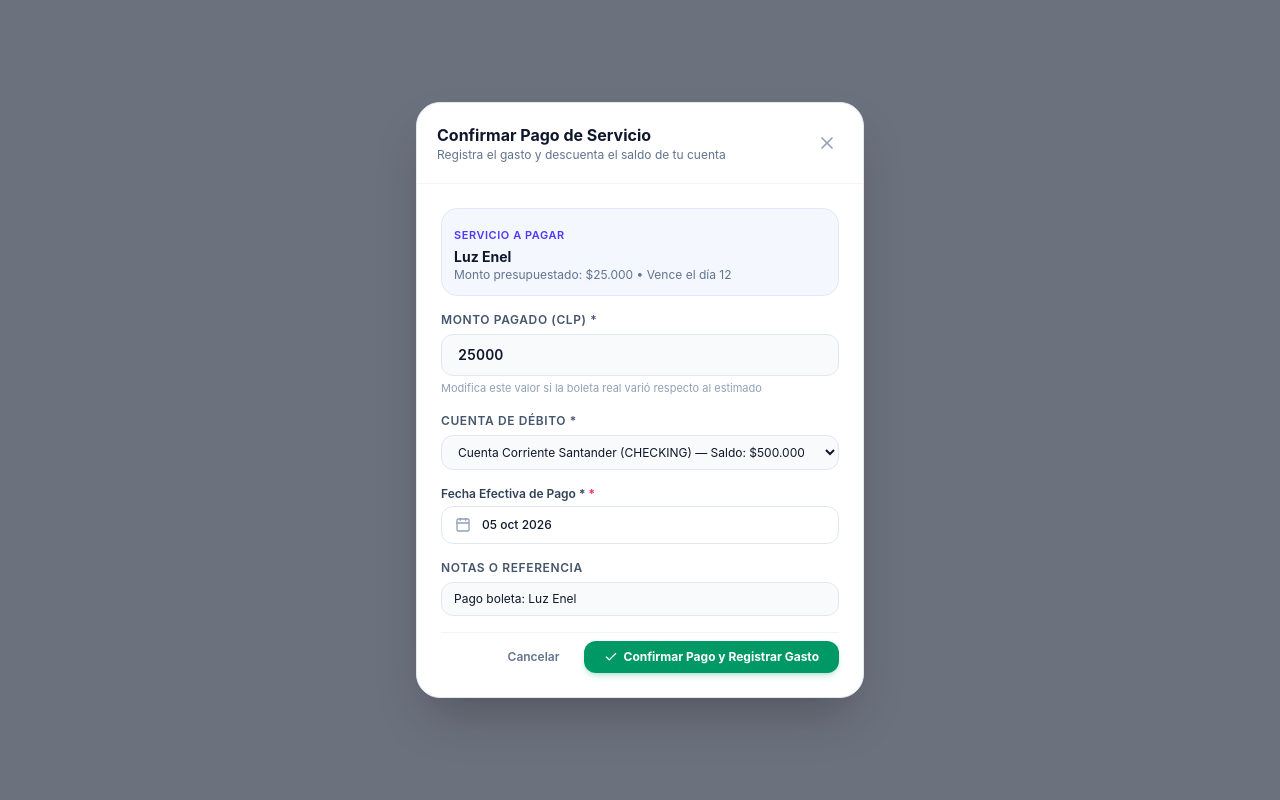
MarkPaidModal › debe mostrar error si el monto ingresado es inválido o menor a 0
Replace the text in the number field labelled "Monto Pagado (CLP) *" with "0": (640, 355) x1=441 y1=334 x2=839 y2=376
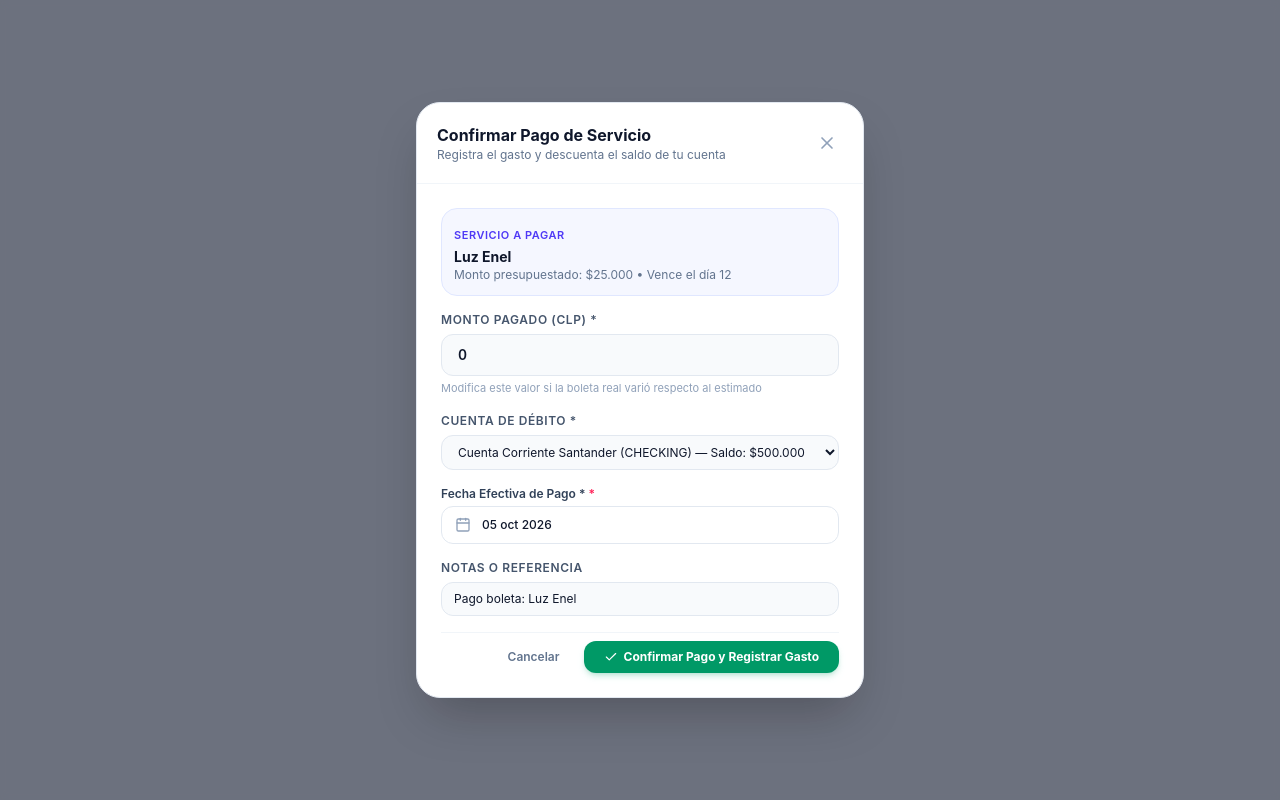
Submit the form, box x1=417 y1=184 x2=863 y2=697
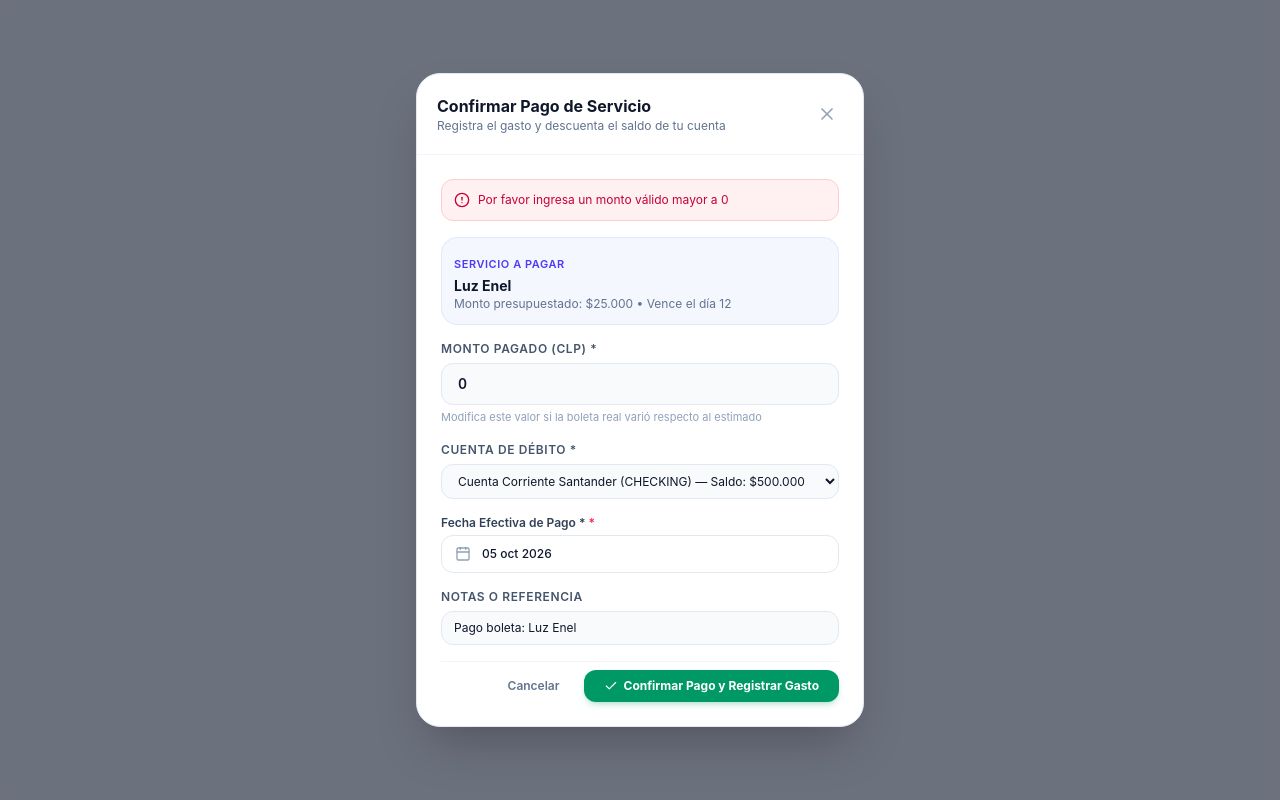
expect the text "Por favor ingresa un monto válido mayor a 0" is shown: met, box x1=478 y1=192 x2=728 y2=208
